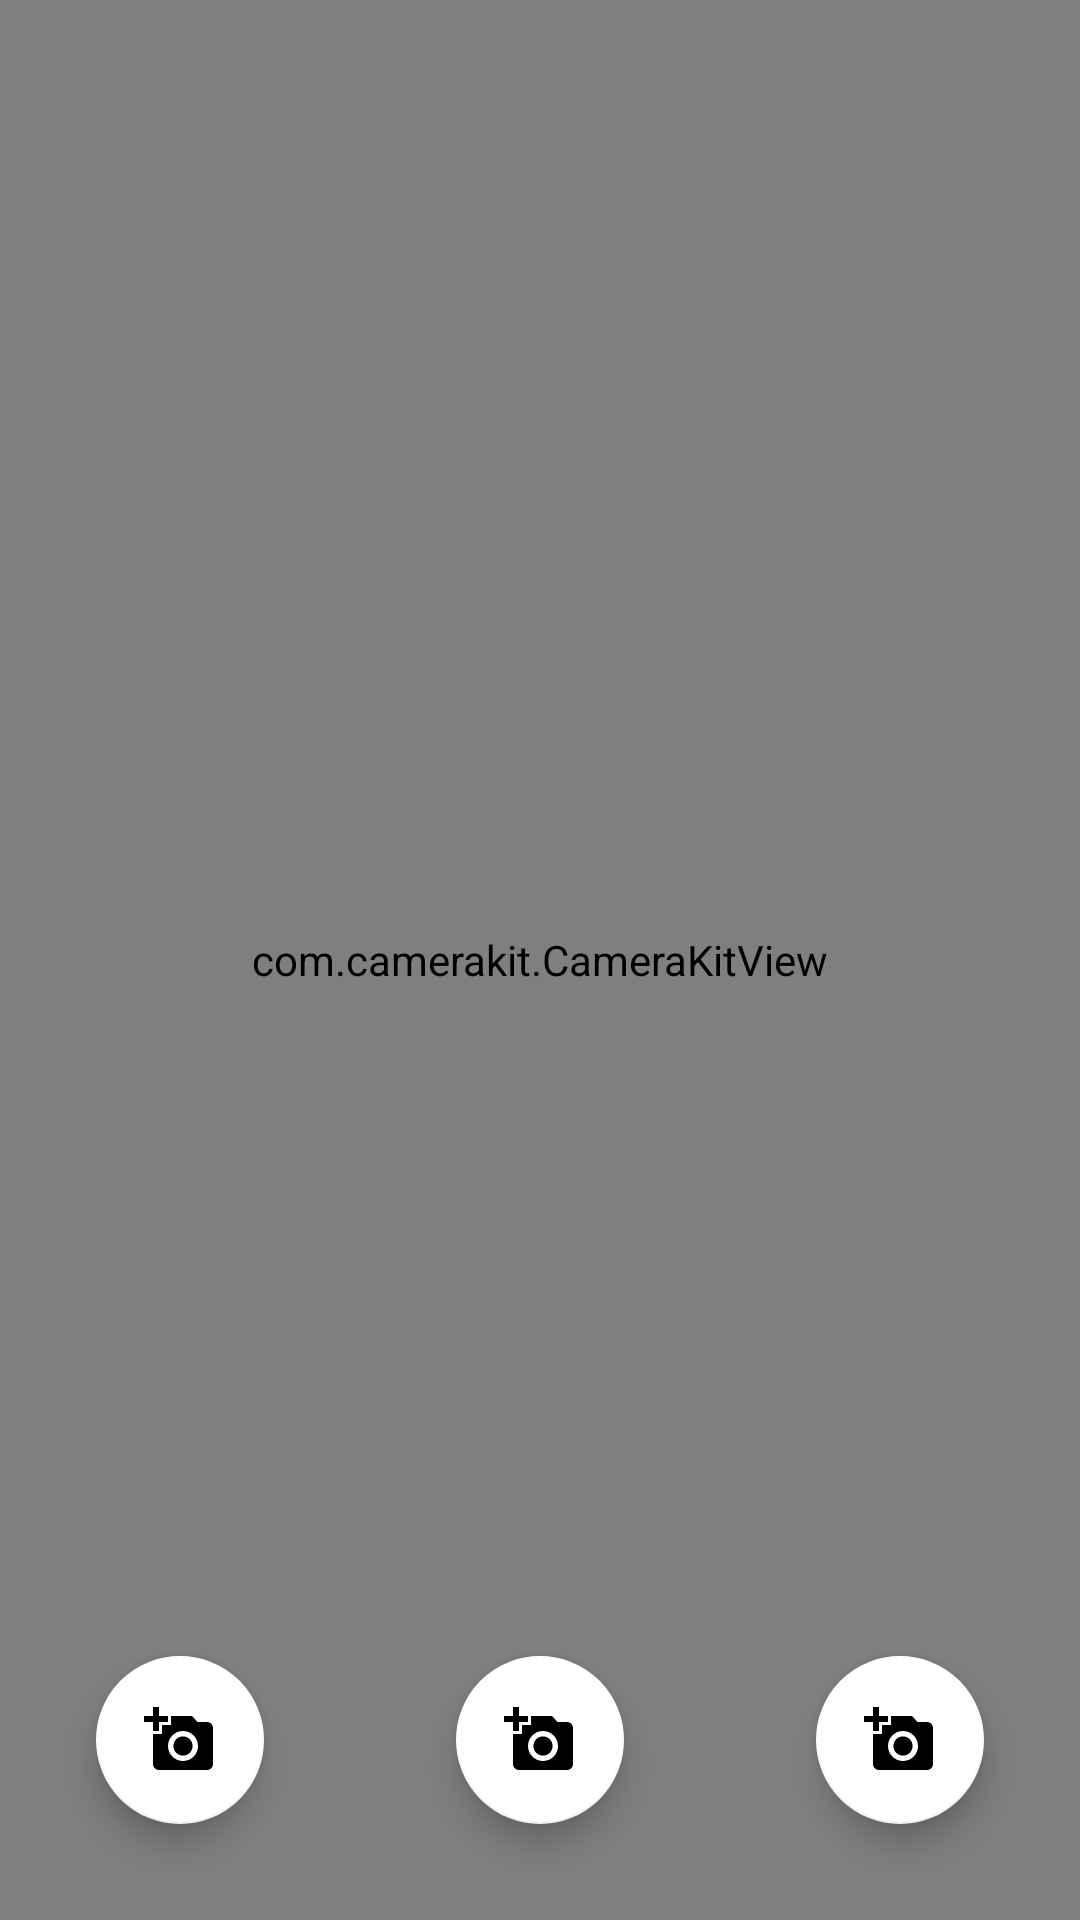

Icons on this 1080px x 1920px Android screen, each with its box as (x1=x1, y1=y1, x2=x2, y2=y2):
add pic: (x1=96, y1=1656, x2=264, y2=1824), (x1=456, y1=1656, x2=624, y2=1824), (x1=816, y1=1656, x2=984, y2=1824)
